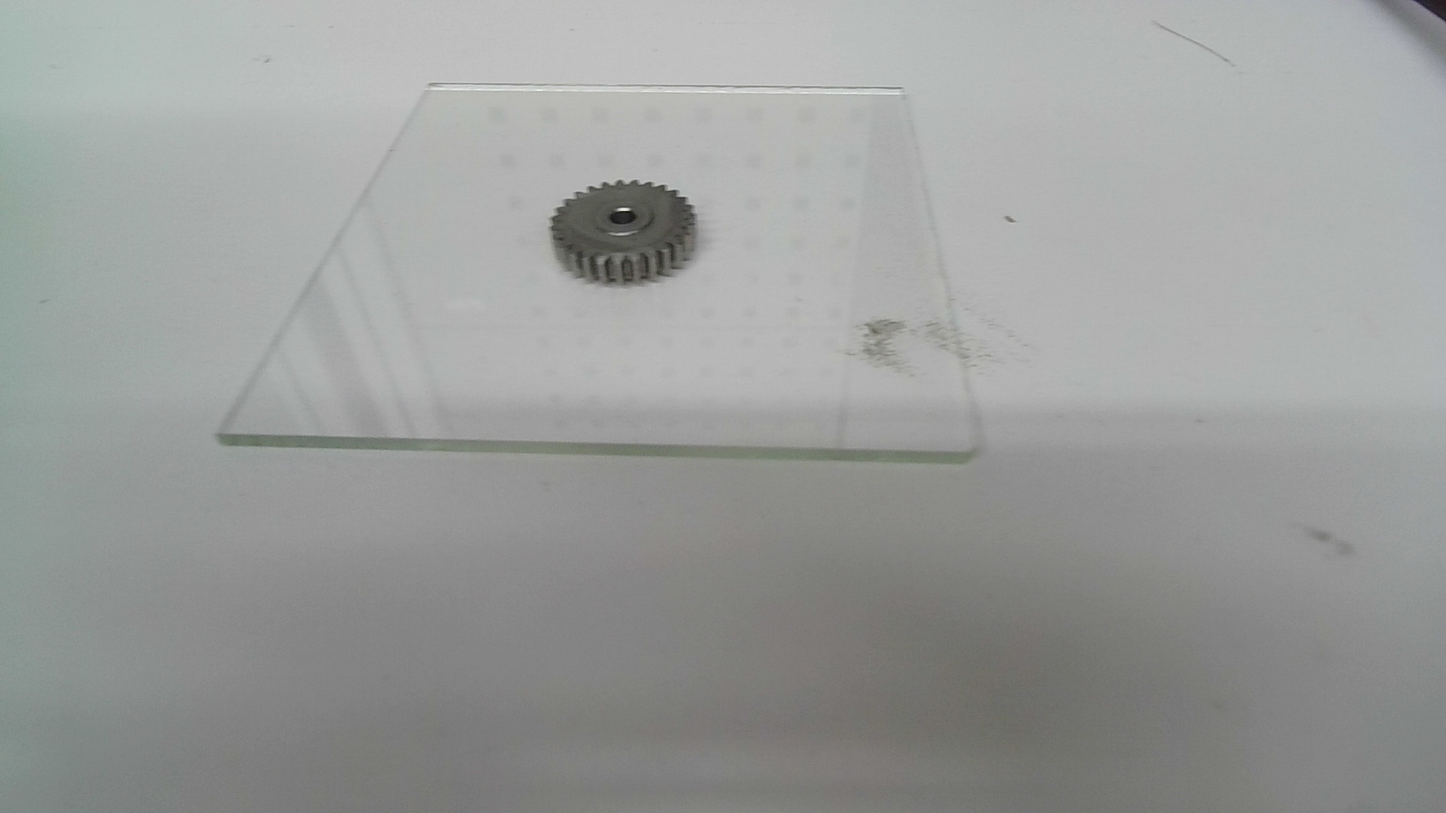gear: (545, 178, 698, 286)
